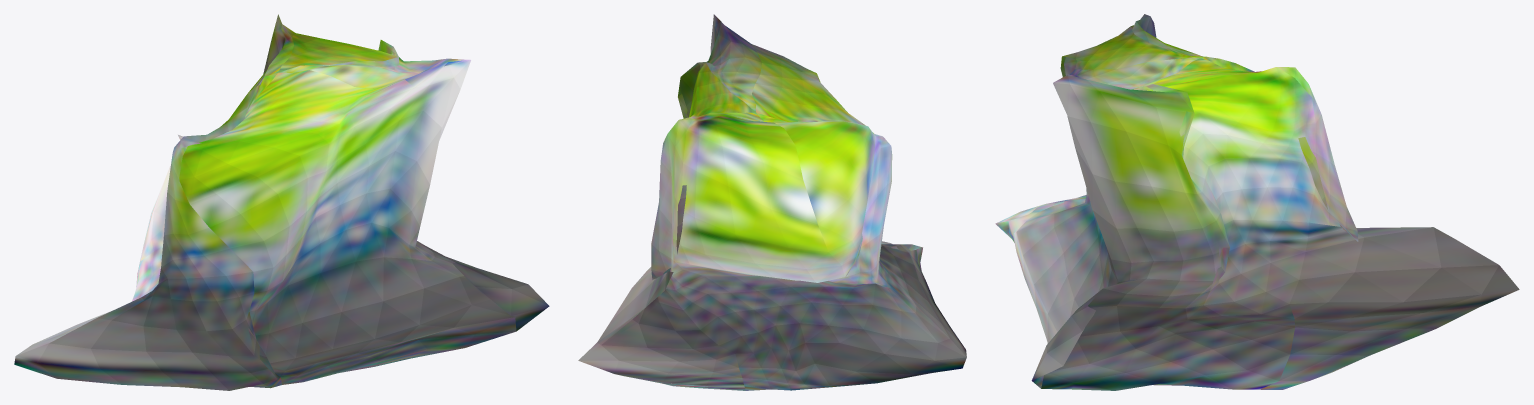
The picture shows the model from 3 angles, left to right: view 1: azimuth 30°, elevation 25°; view 2: azimuth 150°, elevation 25°; view 3: azimuth 270°, elevation 25°; orthographic projection. The views are drawn at different scales.
Parts seen in each view (by area): view 1: pMesh1; view 2: pMesh1; view 3: pMesh1.
Part boxes in pixels (x1,y1,x2,y2): pMesh1: (14, 14, 549, 390); pMesh1: (578, 14, 966, 390); pMesh1: (995, 14, 1519, 390).
Bounding box in the file's own units: 3.09 × 2.25 × 3.04.
1 material, 1 textured.
